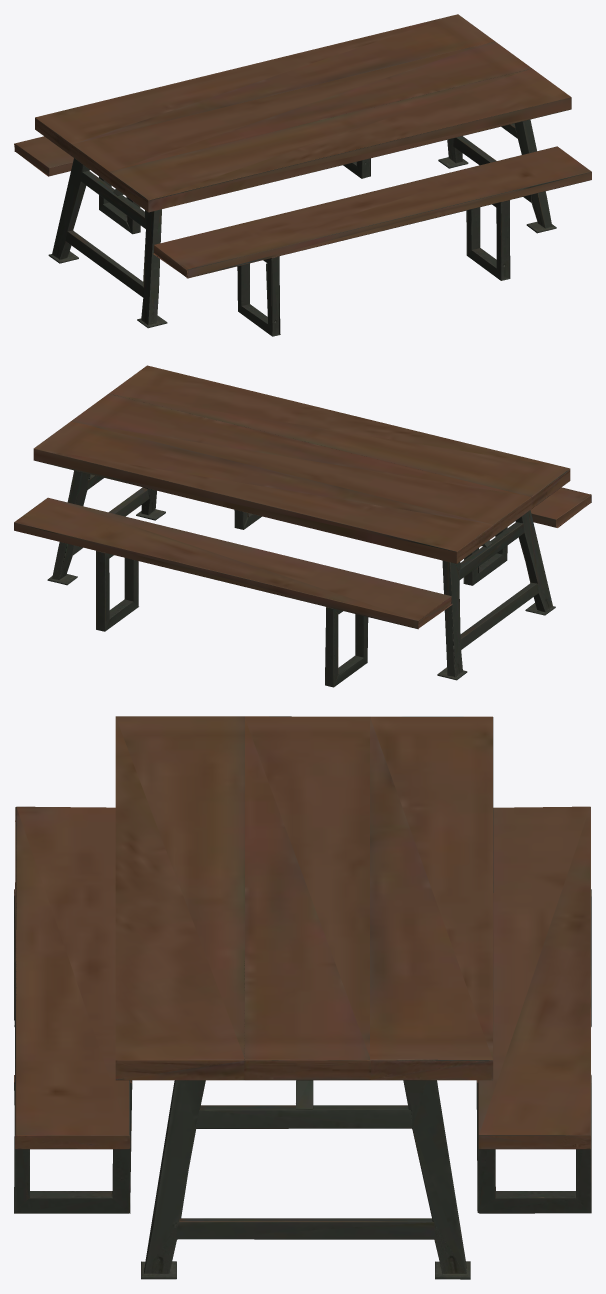
Rendered from dining_table.glb.
The picture shows the model from 3 angles, top to bottom: view 1: azimuth 30°, elevation 25°; view 2: azimuth 150°, elevation 25°; view 3: azimuth 270°, elevation 25°; orthographic projection. The views are drawn at different scales.
Bounding box in the file's own units: 2.6 × 0.8056 × 1.85.
Materials: 1 (1 with a texture image).
